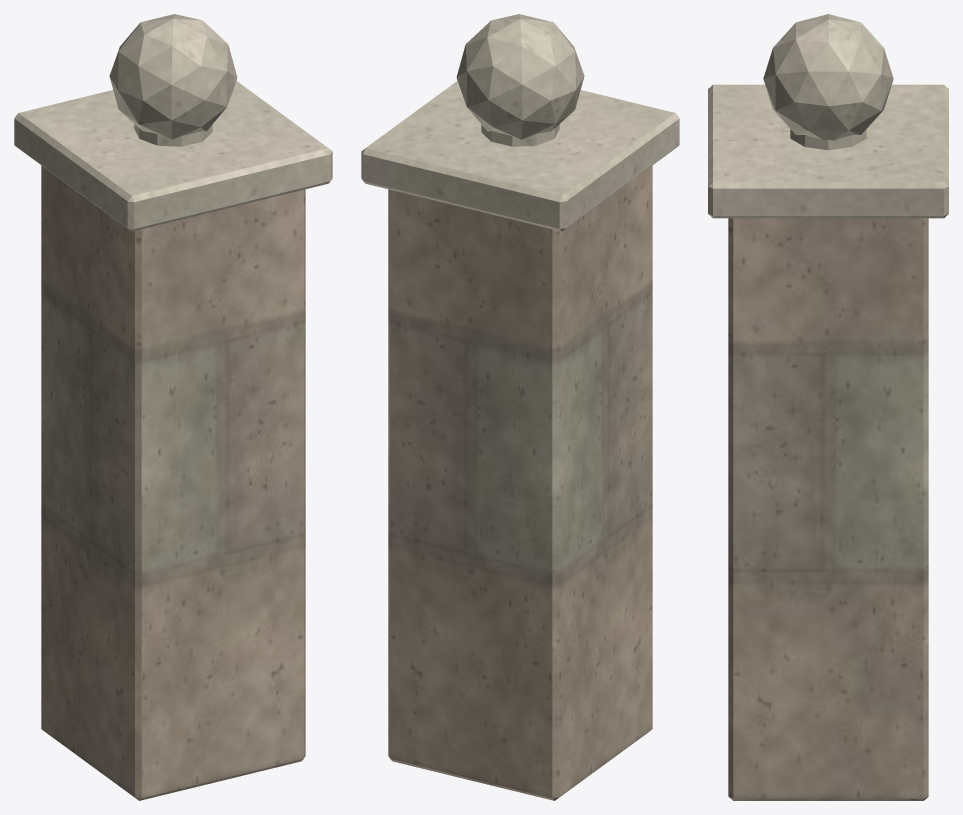
The model's file is fence_pier.glb.
The picture shows the model from 3 angles, left to right: view 1: azimuth 30°, elevation 25°; view 2: azimuth 150°, elevation 25°; view 3: azimuth 270°, elevation 25°; orthographic projection.
Parts seen in each view (by area): view 1: fence_pier_bstone, fence_pier_carve; view 2: fence_pier_bstone, fence_pier_carve; view 3: fence_pier_bstone, fence_pier_carve.
Part boxes in pixels (bbox=[...]): fence_pier_bstone: bbox=[41, 165, 305, 800]; fence_pier_carve: bbox=[14, 14, 332, 231]; fence_pier_bstone: bbox=[388, 165, 652, 800]; fence_pier_carve: bbox=[361, 14, 679, 231]; fence_pier_bstone: bbox=[728, 218, 928, 800]; fence_pier_carve: bbox=[708, 14, 948, 218].
Size of the model in its own units: 0.48 by 1.63 by 0.48.
Materials: 2 (2 with a texture image).
